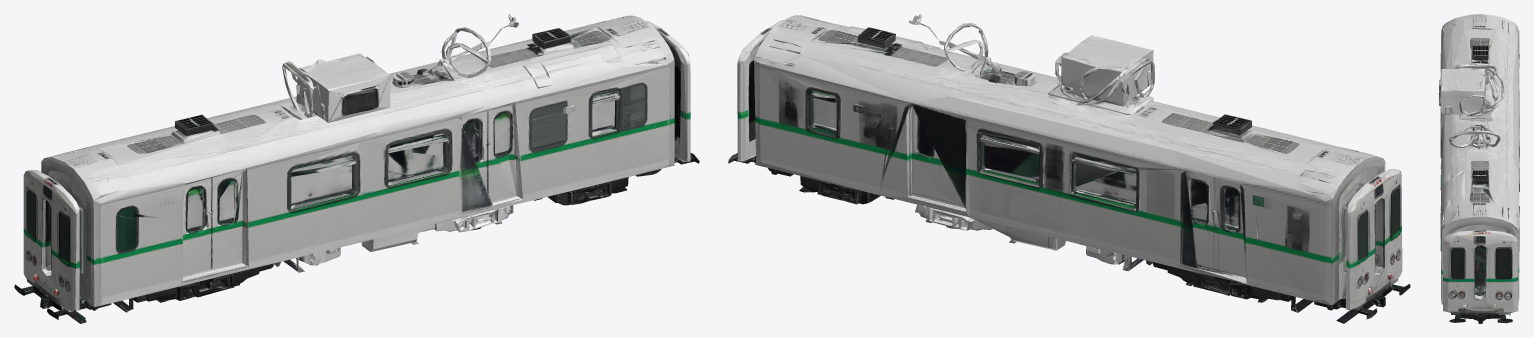
The model's file is train_car.glb.
3 views of the same model, side by side, from view 1: azimuth 30°, elevation 25°; view 2: azimuth 150°, elevation 25°; view 3: azimuth 270°, elevation 25° (orthographic). The views are drawn at different scales.
Size of the model in its own units: 1.9 by 0.5387 by 0.29.
Materials: 1 (1 with a texture image).
